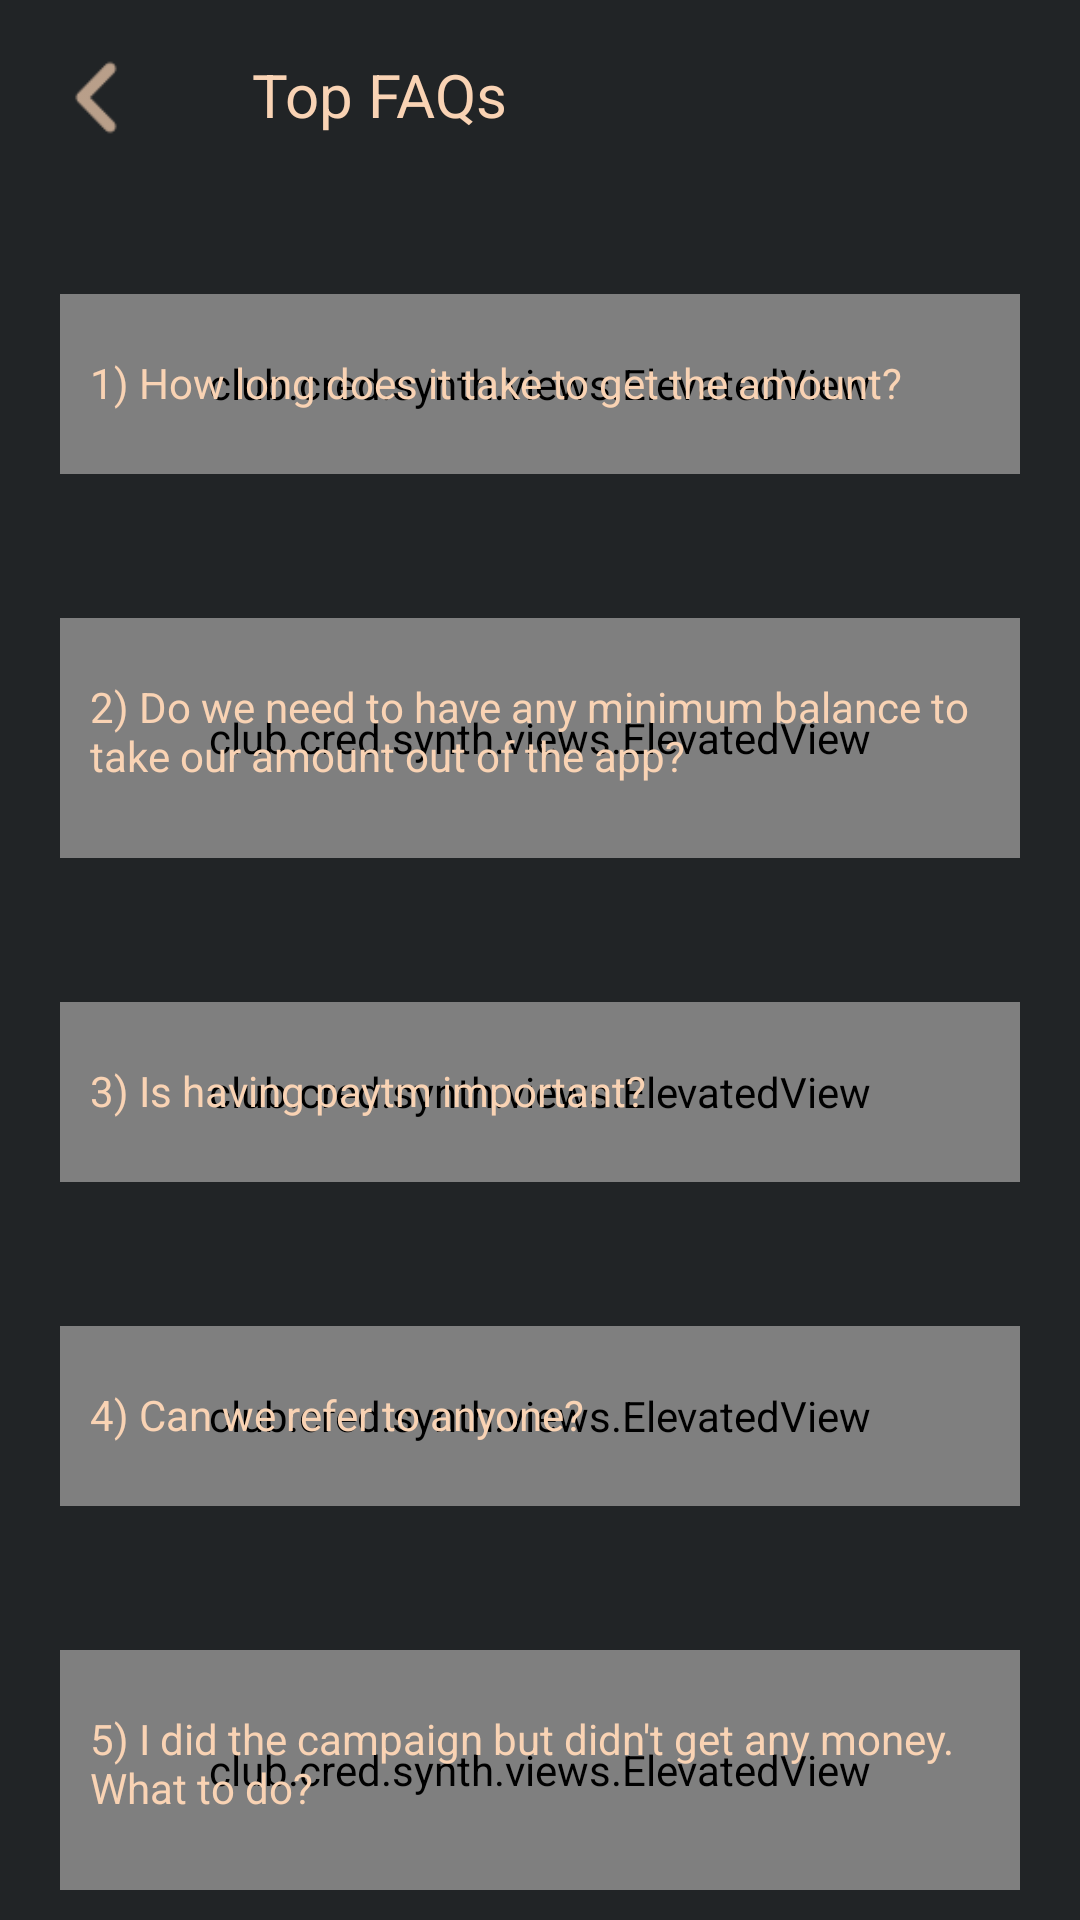

Icons on this 1080w x 1920h Android screen, each with its box as (x1, y1, x2, y2):
chevron left: (75, 62, 117, 133)
